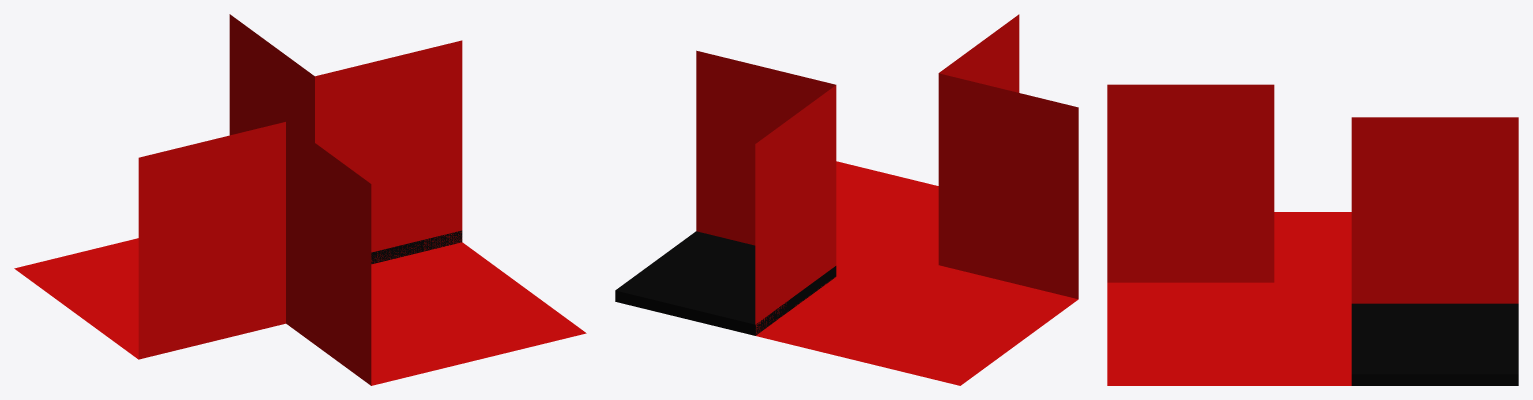
3 views of the same model, side by side, from view 1: azimuth 30°, elevation 25°; view 2: azimuth 150°, elevation 25°; view 3: azimuth 270°, elevation 25° (orthographic). The views are drawn at different scales.
Parts seen in each view (by area): view 1: None_P_E_E_A_E_E_A_E_None; view 2: None_P_E_E_A_E_E_A_E_None; view 3: None_P_E_E_A_E_E_A_E_None.
Boxes of the visible parts, left/top/right/bottom form: None_P_E_E_A_E_E_A_E_None: left=14, top=14, right=586, bottom=385; None_P_E_E_A_E_E_A_E_None: left=615, top=14, right=1078, bottom=385; None_P_E_E_A_E_E_A_E_None: left=1107, top=84, right=1518, bottom=385.
Size of the model in its own units: 100 by 53.12 by 100.
